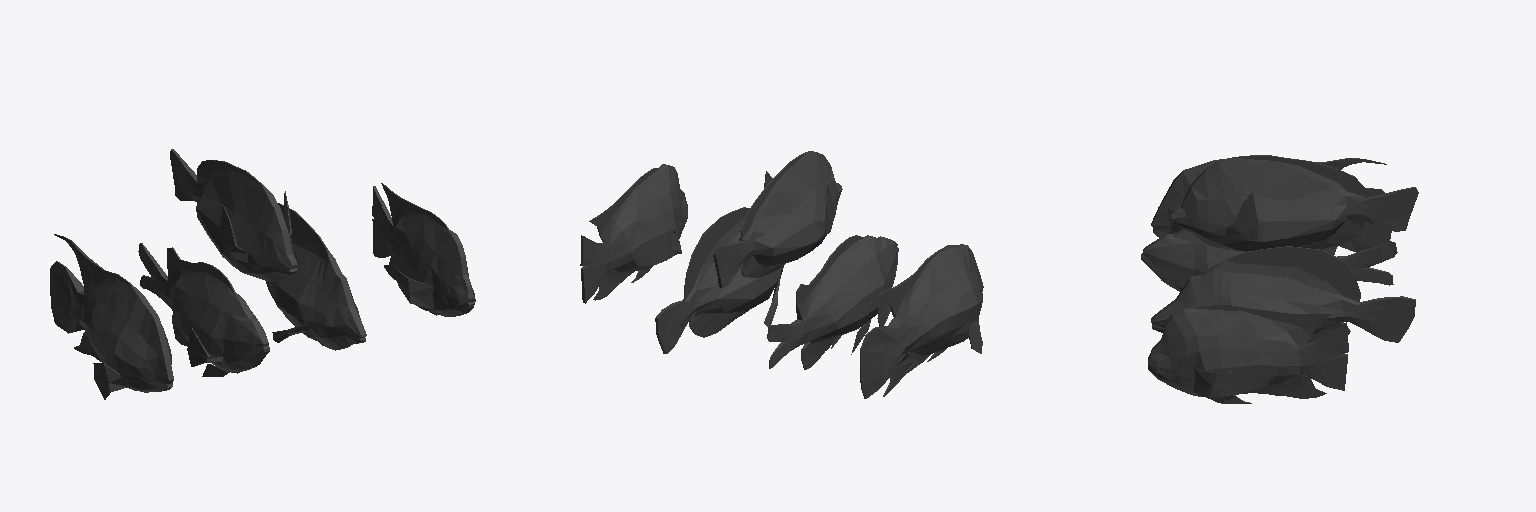
Rendered from Peces1.obj.
3 views of the same model, side by side, from view 1: azimuth 30°, elevation 25°; view 2: azimuth 150°, elevation 25°; view 3: azimuth 270°, elevation 25° (orthographic).
Visible parts, largest first — view 1: TropicalFi; view 2: TropicalFi; view 3: TropicalFi.
Part boxes in pixels (bbox=[...]): TropicalFi: bbox=[50, 149, 475, 399]; TropicalFi: bbox=[580, 151, 983, 398]; TropicalFi: bbox=[1141, 155, 1418, 403].
Size of the model in its own units: 68.06 by 33.05 by 44.73.